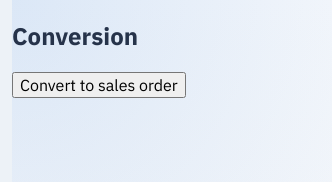
Test: QuoteConversionAction › shows error feedback when conversion fails
Click the button "Convert to sales order" at [99, 85], box [12,72,186,98]
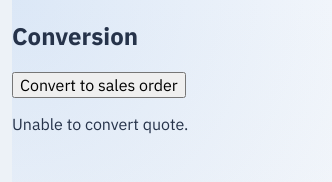
expect the message reads "Unable to convert quote.": met, box [12,114,188,134]
